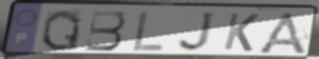A: (254, 11, 309, 56)
B: (84, 9, 128, 52)
J: (177, 11, 217, 53)
K: (222, 12, 261, 53)
L: (130, 10, 166, 53)
Q: (39, 8, 83, 52)
